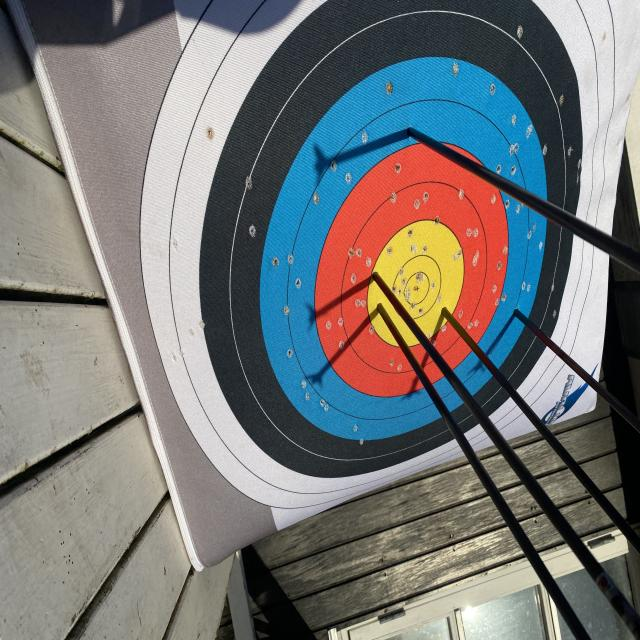Arrow_Blue: (400, 114, 429, 159), (510, 296, 529, 330)
Arrow_Yellow: (366, 292, 395, 327), (361, 261, 391, 293), (434, 295, 452, 329)
